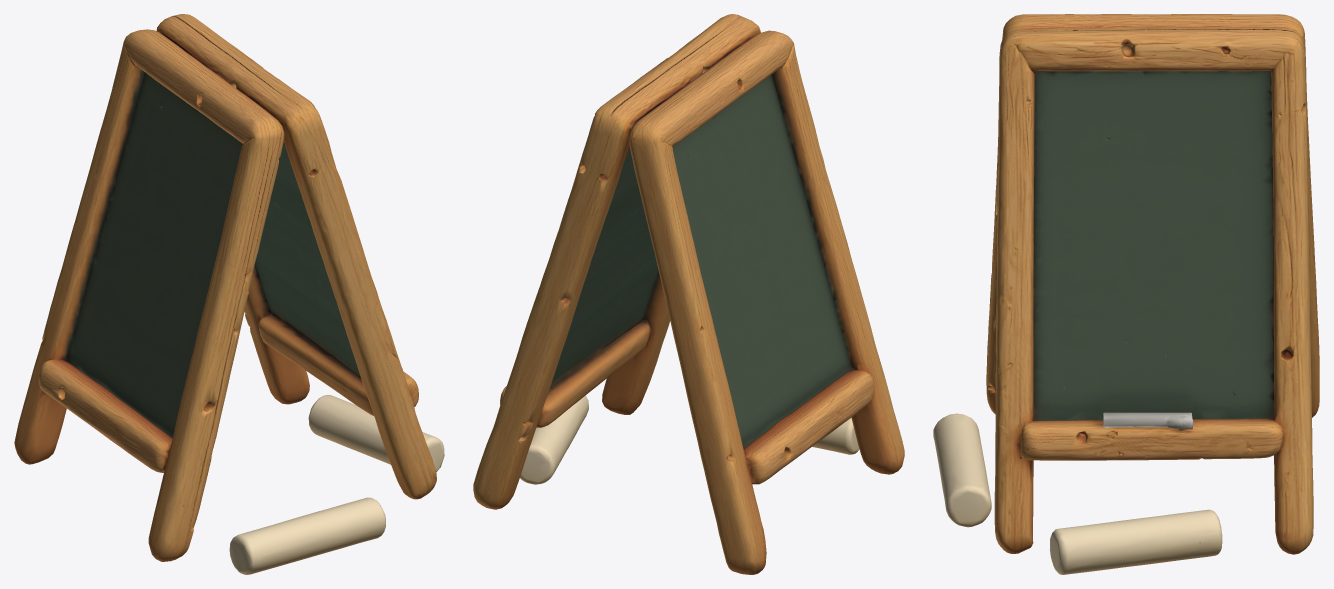
The model's file is discovery-bot-v3.glb.
3 views of the same model, side by side, from view 1: azimuth 30°, elevation 25°; view 2: azimuth 150°, elevation 25°; view 3: azimuth 270°, elevation 25° (orthographic). The views are drawn at different scales.
Visible parts, largest first — view 1: tripo_node_ef8e4a8d-4261-4354-8479-7f43c7c3d91d; view 2: tripo_node_ef8e4a8d-4261-4354-8479-7f43c7c3d91d; view 3: tripo_node_ef8e4a8d-4261-4354-8479-7f43c7c3d91d.
Part boxes in pixels (left/top/right/bottom): tripo_node_ef8e4a8d-4261-4354-8479-7f43c7c3d91d: left=14, top=14, right=444, bottom=574; tripo_node_ef8e4a8d-4261-4354-8479-7f43c7c3d91d: left=473, top=14, right=904, bottom=574; tripo_node_ef8e4a8d-4261-4354-8479-7f43c7c3d91d: left=933, top=14, right=1319, bottom=574.
Bounding box in the file's own units: 0.777 × 1 × 0.7437.
1 material, 1 textured.
